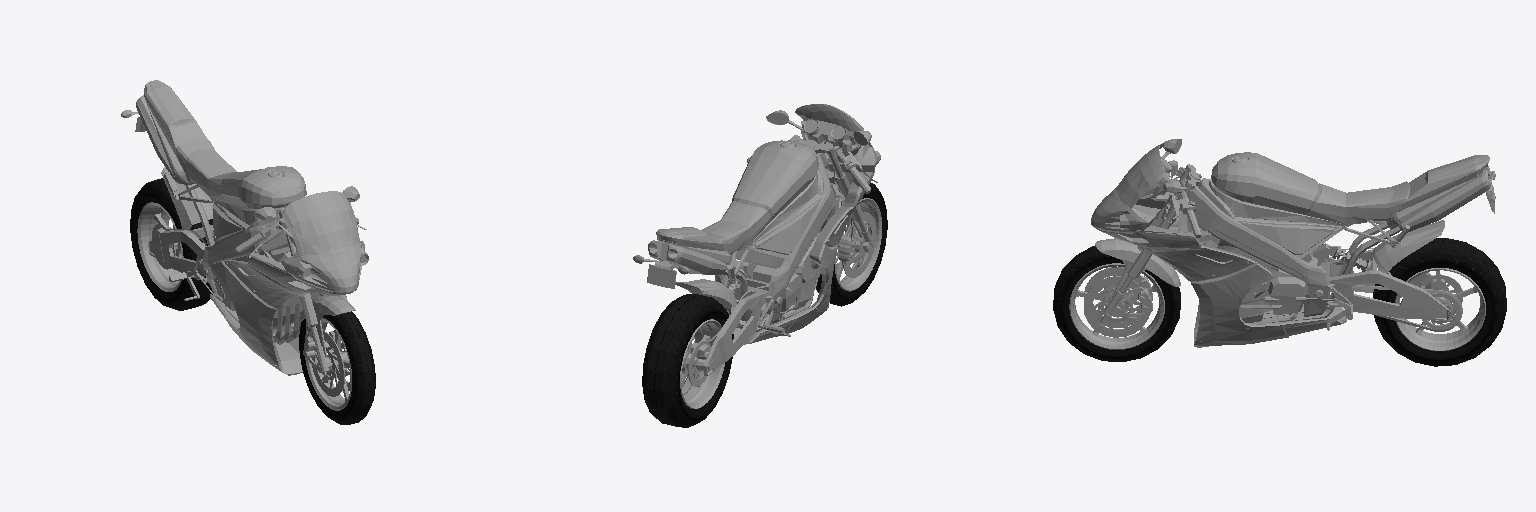
The picture shows the model from 3 angles: view 1: azimuth 30°, elevation 25°; view 2: azimuth 150°, elevation 25°; view 3: azimuth 270°, elevation 25°; orthographic projection.
Visible parts, largest first — view 1: BikeChassis, BikeBody, BikeTires, BikeLights, BikeGlass, BikeInterior; view 2: BikeChassis, BikeBody, BikeTires, BikeLights, BikeInterior, BikeGlass; view 3: BikeChassis, BikeBody, BikeTires, BikeLights, BikeInterior, BikeGlass.
Boxes of the visible parts, x1,y1,x2,y2 form: BikeChassis: [121, 98, 367, 396]; BikeBody: [144, 80, 363, 375]; BikeTires: [130, 178, 375, 424]; BikeLights: [136, 95, 368, 410]; BikeGlass: [283, 191, 352, 249]; BikeInterior: [152, 85, 237, 193]; BikeChassis: [633, 110, 880, 386]; BikeBody: [656, 113, 875, 336]; BikeTires: [642, 183, 887, 427]; BikeLights: [633, 121, 881, 408]; BikeInterior: [664, 118, 849, 243]; BikeGlass: [767, 104, 867, 144]; BikeChassis: [1084, 139, 1494, 341]; BikeBody: [1091, 152, 1489, 347]; BikeTires: [1053, 238, 1506, 366]; BikeLights: [1069, 140, 1495, 350]; BikeInterior: [1157, 157, 1478, 216]; BikeGlass: [1116, 139, 1181, 193].
Bounding box in the file's own units: 1.29 × 2.12 × 4.08.
Materials: 6 (1 with a texture image).